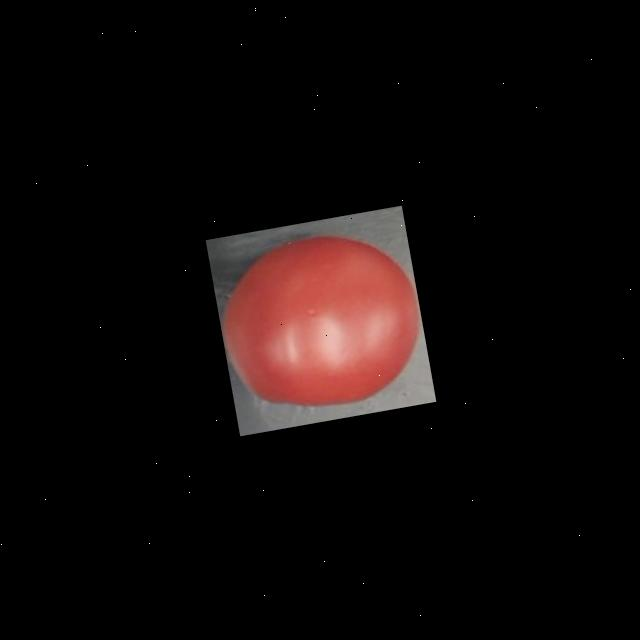tomato: (207, 218, 433, 424)
